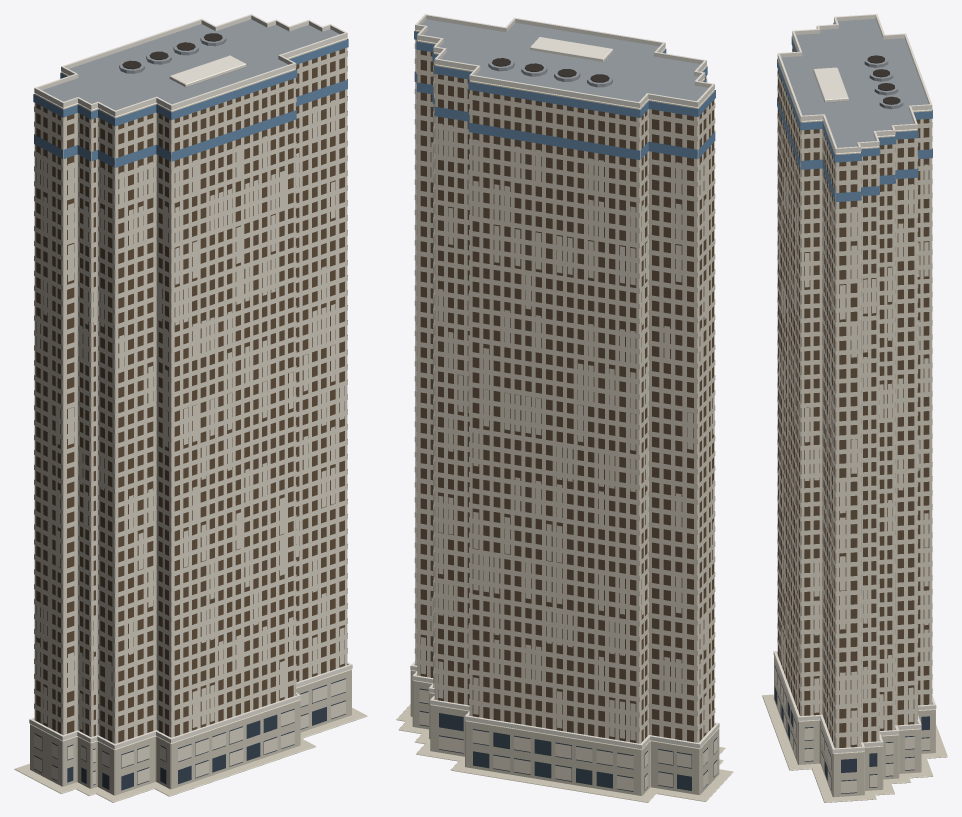
The model's file is embarcadero-center-1.glb.
The picture shows the model from 3 angles, left to right: view 1: azimuth 30°, elevation 25°; view 2: azimuth 150°, elevation 25°; view 3: azimuth 270°, elevation 25°; orthographic projection. The views are drawn at different scales.
Parts seen in each view (by area): view 1: embarcadero-center-1_body, embarcadero-center-1_night_glow; view 2: embarcadero-center-1_body, embarcadero-center-1_night_glow; view 3: embarcadero-center-1_body, embarcadero-center-1_night_glow.
Boxes of the visible parts, x1,y1,x2,y2 form: embarcadero-center-1_body: (14, 14, 367, 802); embarcadero-center-1_night_glow: (33, 38, 348, 784); embarcadero-center-1_body: (396, 14, 733, 802); embarcadero-center-1_night_glow: (414, 30, 717, 791); embarcadero-center-1_body: (762, 14, 947, 802); embarcadero-center-1_night_glow: (774, 22, 932, 793).
Size of the model in its own units: 84.97 by 173 by 45.1.
